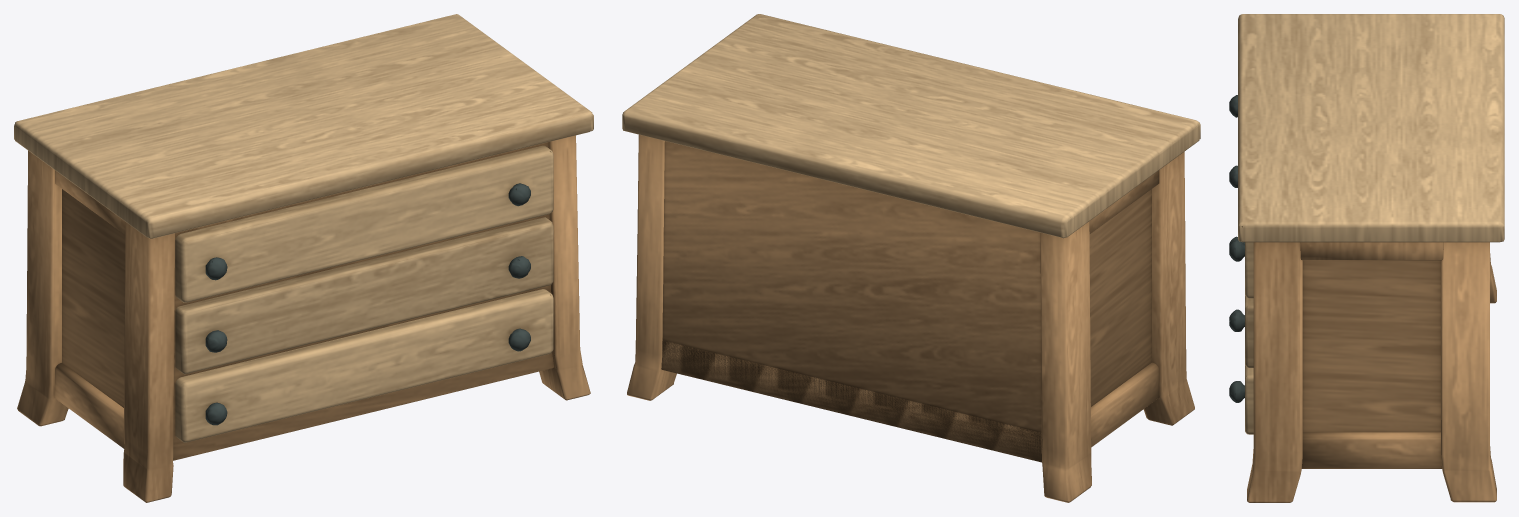
The model's file is dresser.glb.
The picture shows the model from 3 angles, left to right: view 1: azimuth 30°, elevation 25°; view 2: azimuth 150°, elevation 25°; view 3: azimuth 270°, elevation 25°; orthographic projection. The views are drawn at different scales.
Visible parts, largest first — view 1: dresser; view 2: dresser; view 3: dresser.
Boxes of the visible parts, <box> form: dresser: <box>14,14,593,502</box>; dresser: <box>622,14,1200,502</box>; dresser: <box>1229,14,1504,502</box>.
Bounding box in the file's own units: 0.998 × 0.6152 × 0.5488.
1 material, 1 textured.
